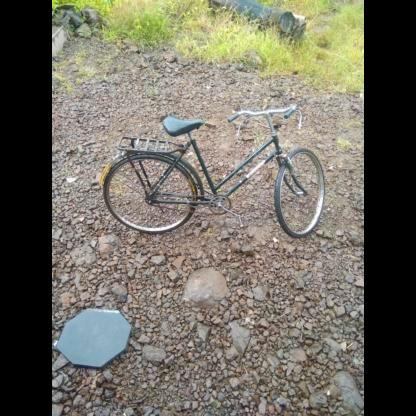Bicycle: (75, 78, 353, 264)
